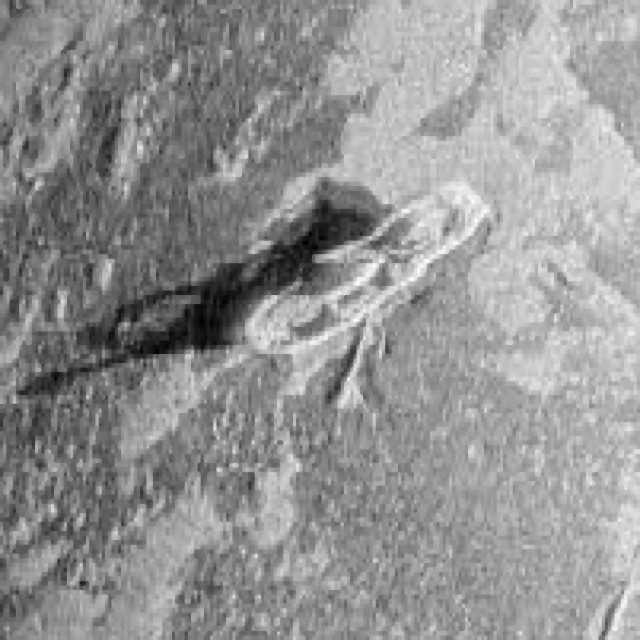Ship: (244, 160, 500, 391)
